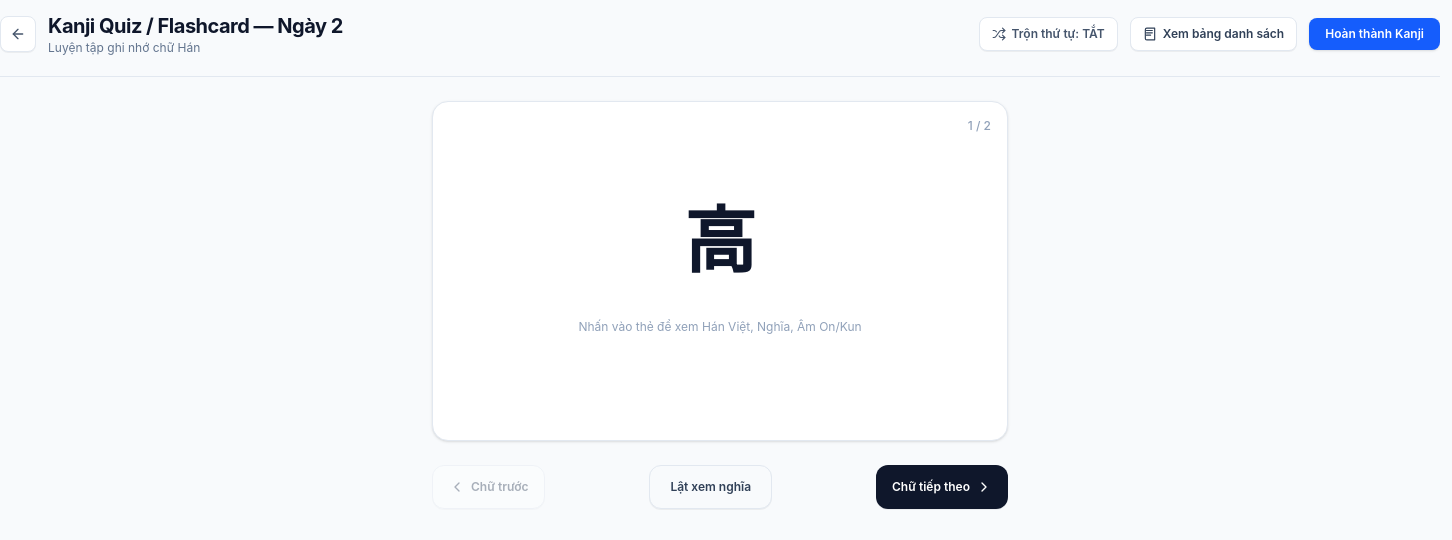
Milestone F6 — Kanji Real Interaction Tests › renders flashcard and flips to show details and examples
Expected: the text "高" is shown, [684,203,756,283]
# Flip to back
Click the button "Lật xem nghĩa". click: (711, 487)
box: [649,465,772,509]
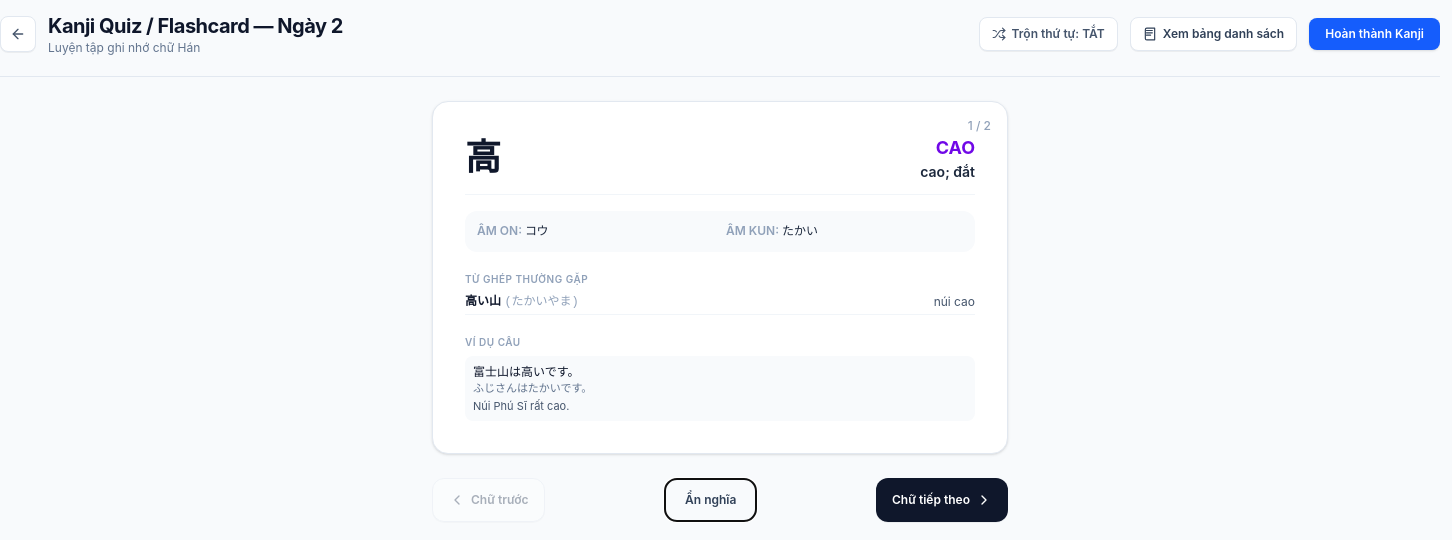
Expected: the text "CAO" is shown, [936,137,975,158]
Expected: the text "cao; đắt" is shown, [920,162,975,182]
Expected: the text "Núi Phú Sĩ rất cao." is shown, [473,399,569,413]
